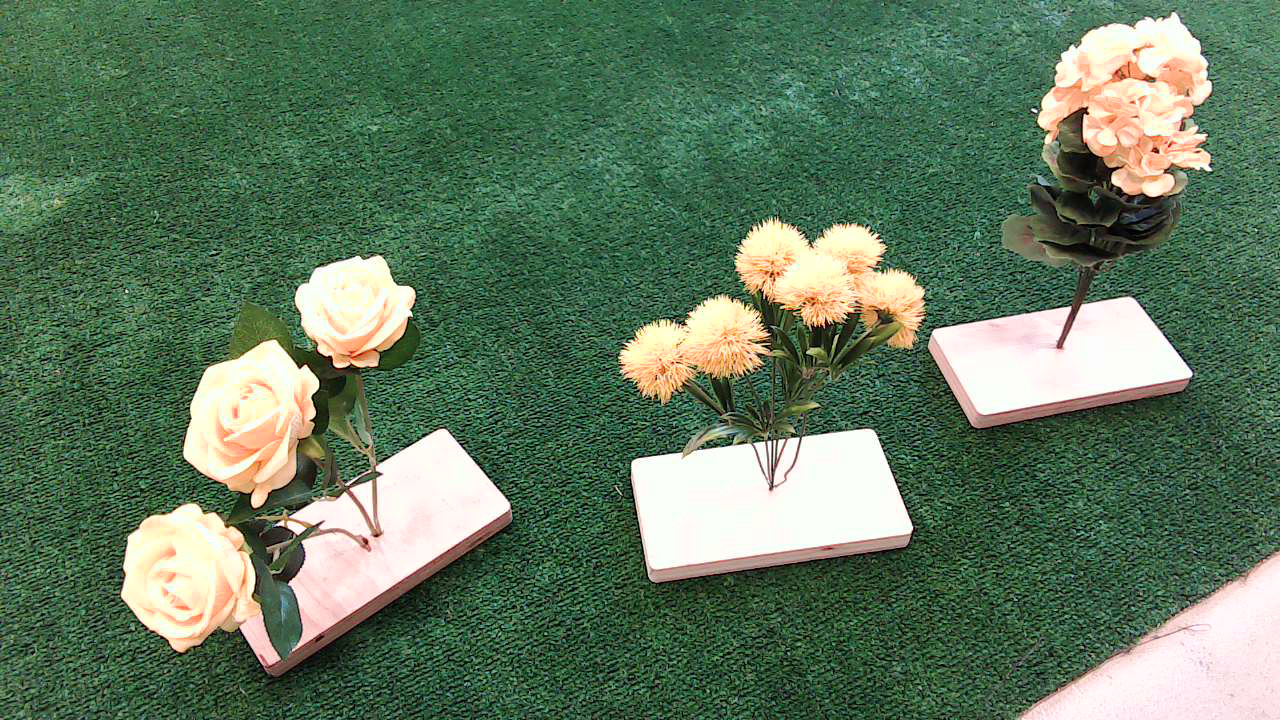dandelion: (614, 218, 946, 437)
geranium: (978, 18, 1253, 287)
rose: (104, 247, 445, 683)
